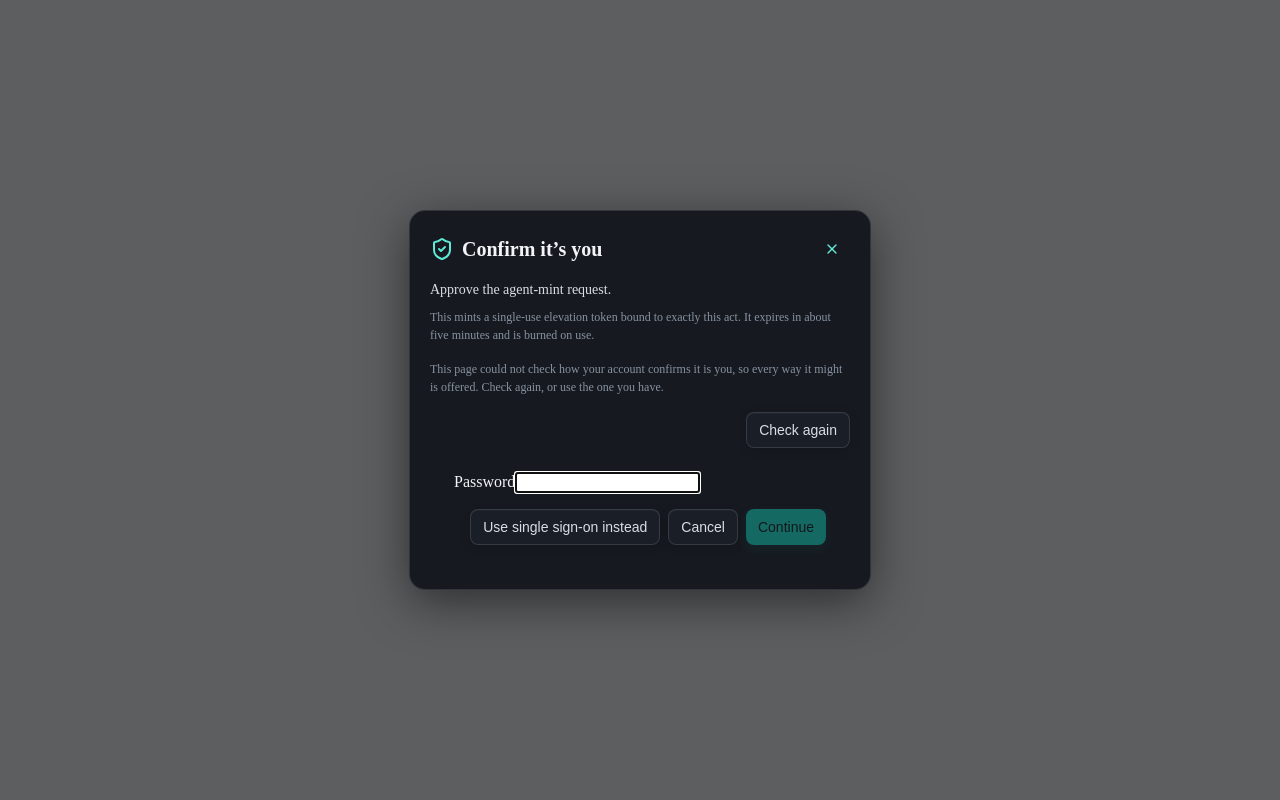
a password Account › when the board cannot say which method applies, both are offered, the reason is shown, and Check again asks once more
Expected: the password field labelled "Password" is shown, top-left (515, 472), bottom-right (700, 493)
Expected: the text "could not check how your account confirms" is shown, top-left (430, 362), bottom-right (842, 394)
Click the button "Check again" at [798, 430], box top-left (746, 412), bottom-right (850, 448)
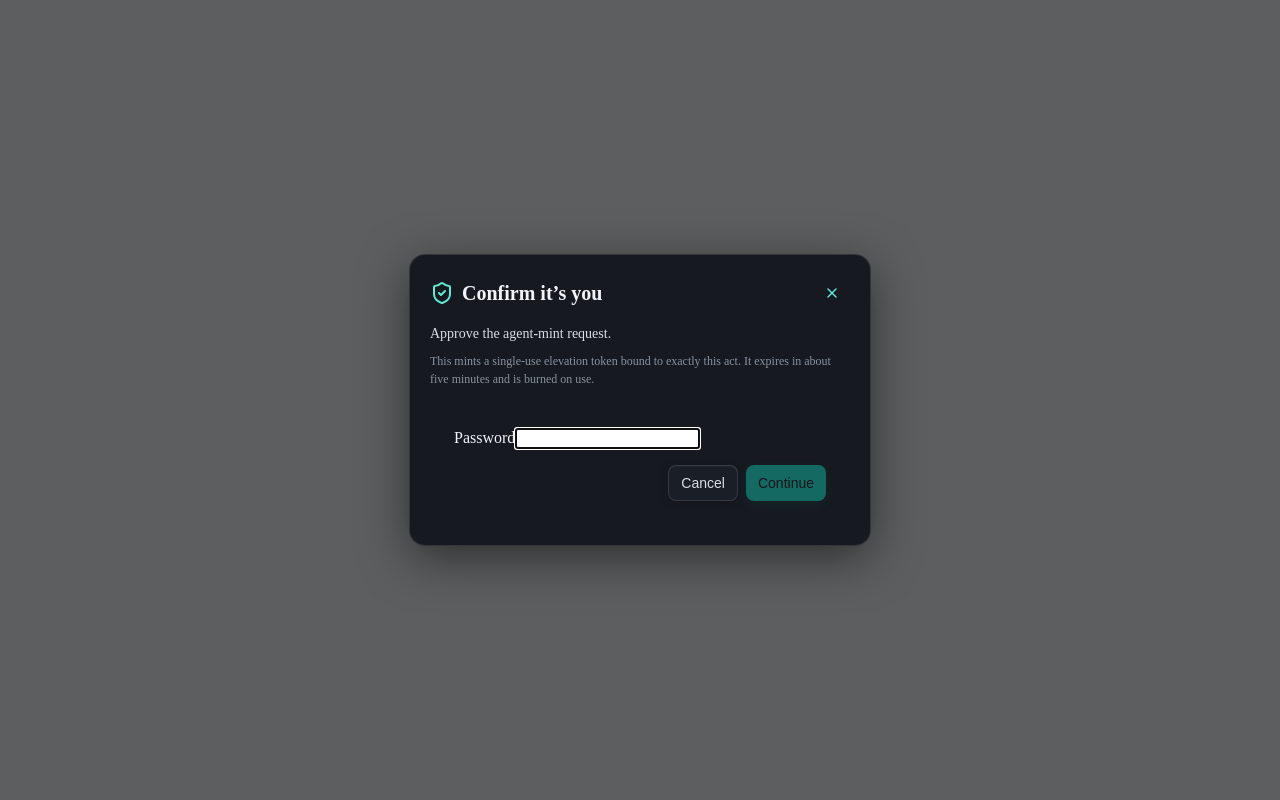
Expected: the password field labelled "Password" is shown, top-left (515, 428), bottom-right (700, 449)
Expected: the button "single sign-on" is gone
Expected: the text "could not check how your account confirms" is gone
